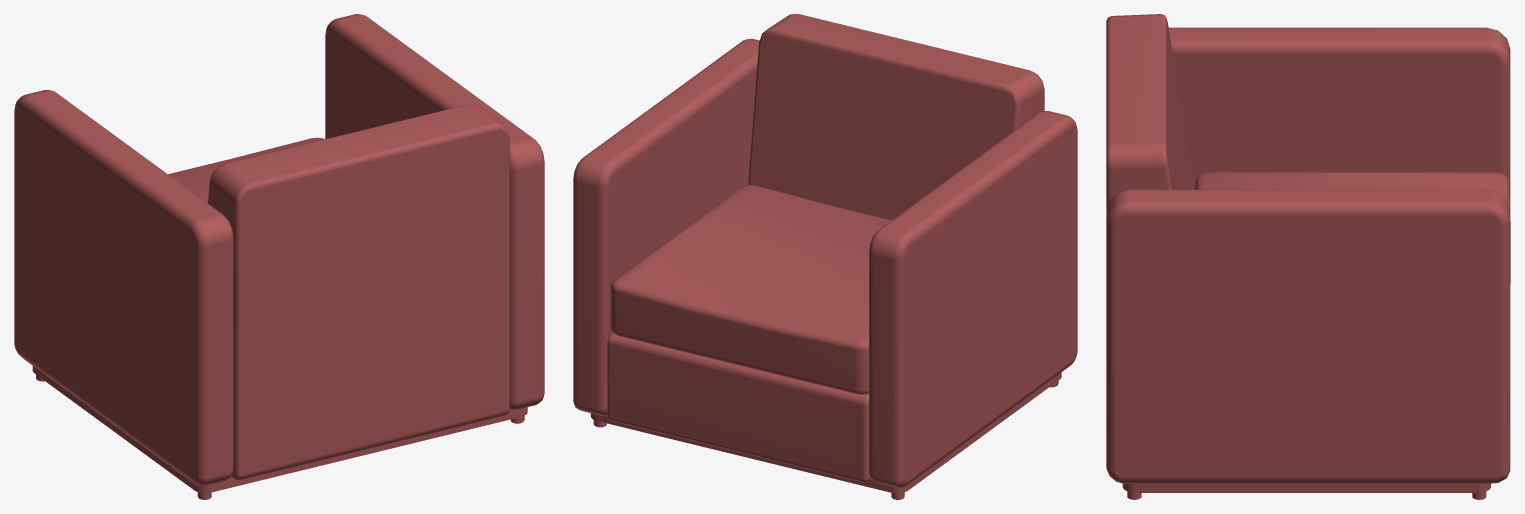
File: armchair.fbx
The picture shows the model from 3 angles, left to right: view 1: azimuth 30°, elevation 25°; view 2: azimuth 150°, elevation 25°; view 3: azimuth 270°, elevation 25°; orthographic projection. The views are drawn at different scales.
Parts seen in each view (by area): view 1: armchair; view 2: armchair; view 3: armchair.
Part boxes in pixels (bbox=[...]): armchair: bbox=[14, 14, 544, 499]; armchair: bbox=[573, 14, 1077, 499]; armchair: bbox=[1106, 14, 1510, 499].
Bounding box in the file's own units: 105 × 90.97 × 99.01.
